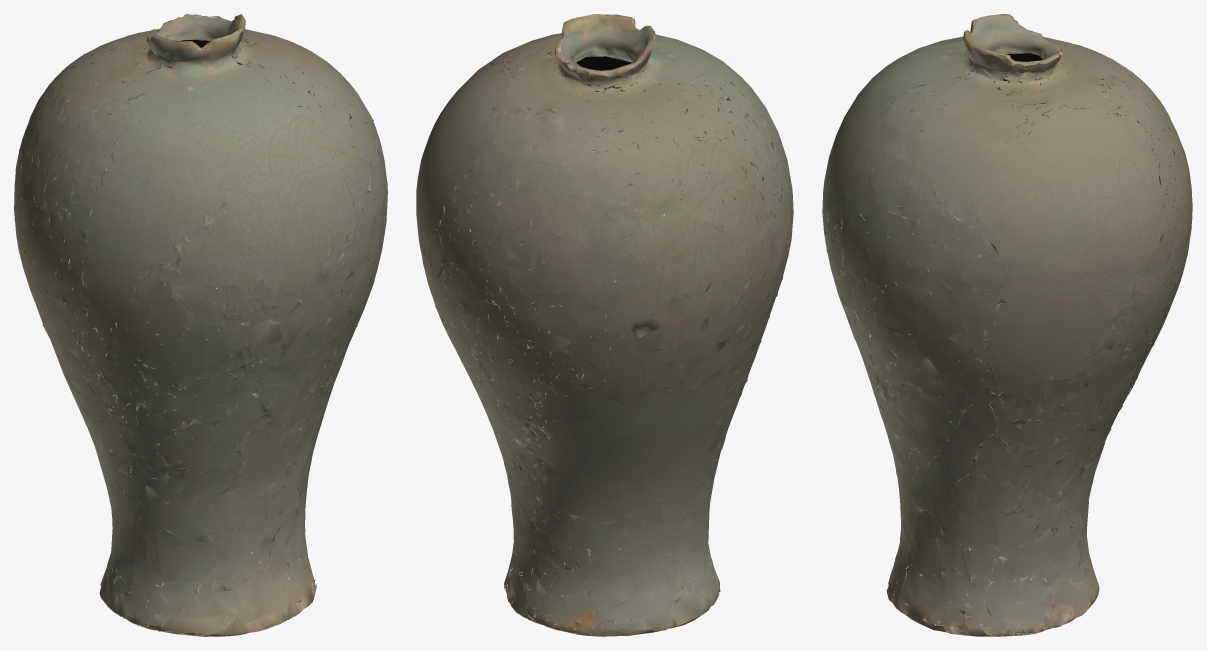
Rendered from maebyeong.glb.
The picture shows the model from 3 angles, left to right: view 1: azimuth 30°, elevation 25°; view 2: azimuth 150°, elevation 25°; view 3: azimuth 270°, elevation 25°; orthographic projection.
Visible parts, largest first — view 1: Object_2, Object_3; view 2: Object_2, Object_3, Object_4; view 3: Object_2, Object_3.
Boxes of the visible parts, <box> form: Object_2: <box>14,14,387,636</box>; Object_3: <box>17,14,387,636</box>; Object_2: <box>423,14,791,636</box>; Object_3: <box>416,14,793,631</box>; Object_4: <box>576,56,631,70</box>; Object_2: <box>825,21,1192,636</box>; Object_3: <box>822,14,1191,635</box>.
Size of the model in its own units: 0.1896 by 0.315 by 0.1885.
2 materials, 1 textured.
